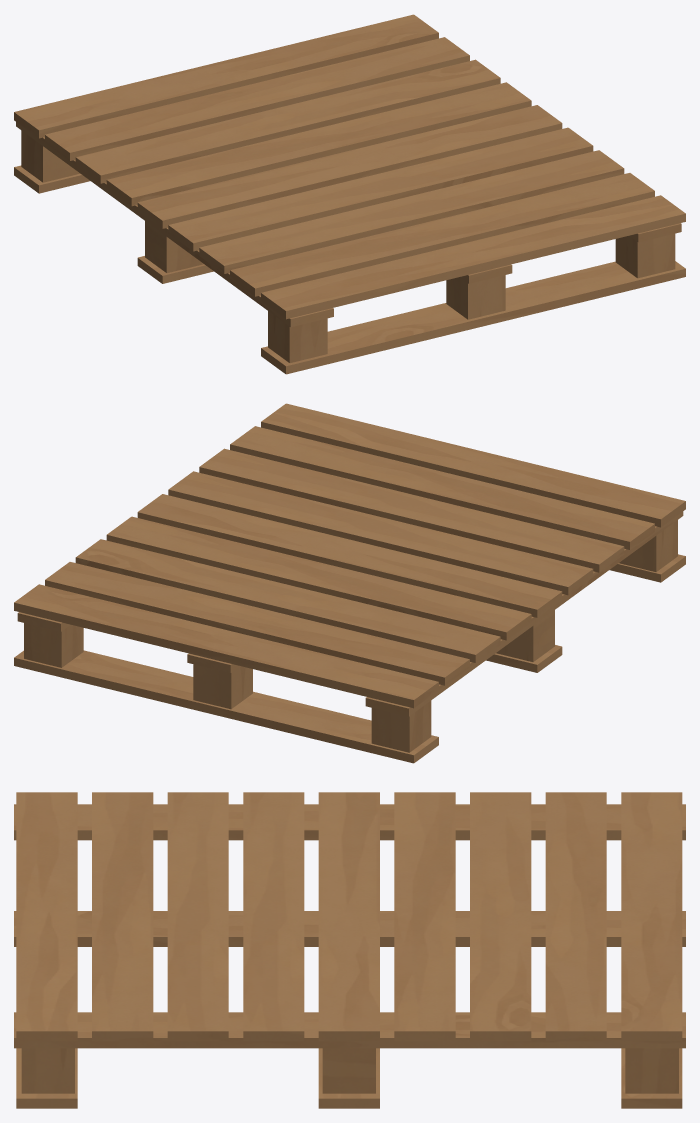
File: SM_Pallet_Wood_01.fbx
3 renders of one model, top to bottom at view 1: azimuth 30°, elevation 25°; view 2: azimuth 150°, elevation 25°; view 3: azimuth 270°, elevation 25°, orthographic. The views are drawn at different scales.
Visible parts, largest first — view 1: SM_Pallet_Wood_01; view 2: SM_Pallet_Wood_01; view 3: SM_Pallet_Wood_01.
Boxes of the visible parts, left/top/right/bottom form: SM_Pallet_Wood_01: left=14, top=14, right=685, bottom=374; SM_Pallet_Wood_01: left=14, top=403, right=685, bottom=763; SM_Pallet_Wood_01: left=14, top=792, right=685, bottom=1108.
Bounding box in the file's own units: 156 × 23.66 × 186.
